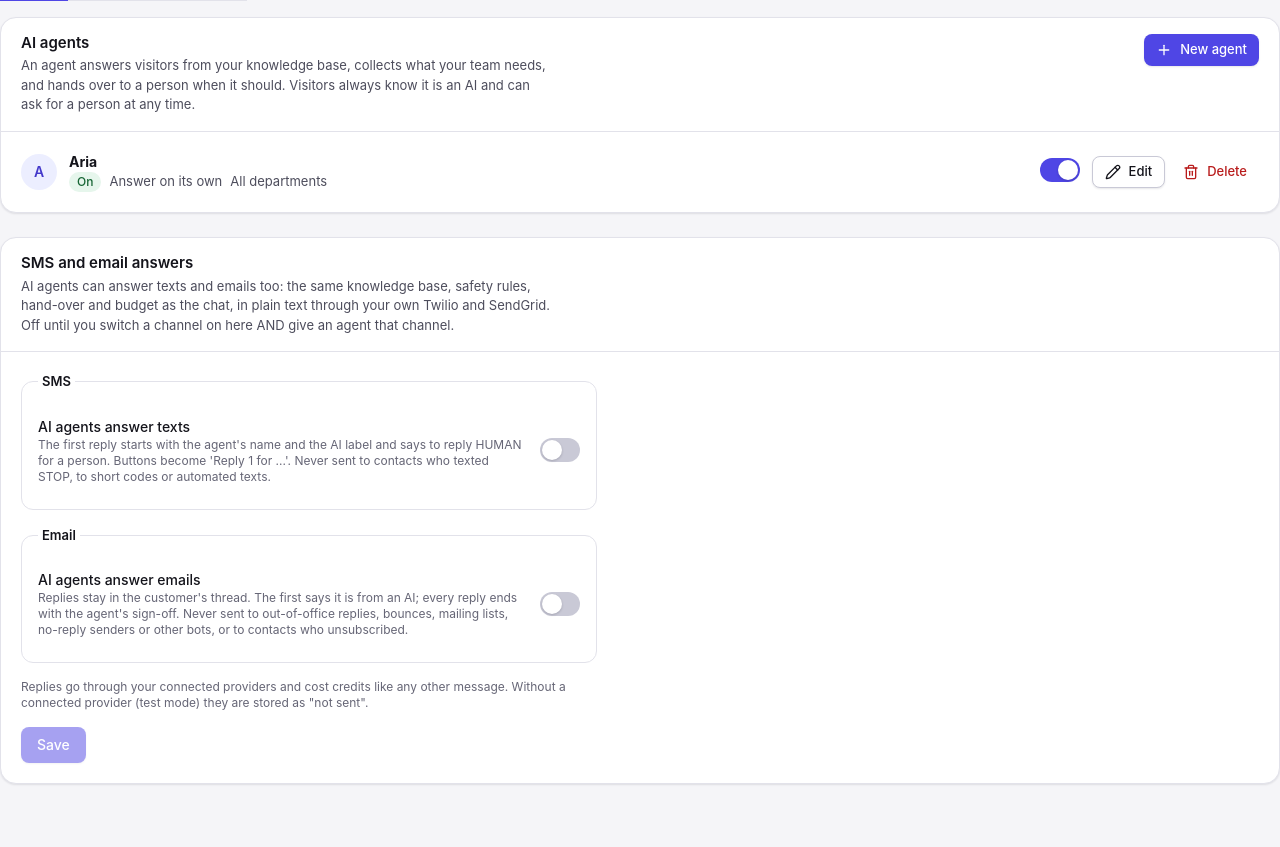
Test: AiAgentsSettings › tries an agent without saving anything and shows what it would do
This screenshot has width=1280, height=847.
Click the button named "Edit Aria".
click(1128, 172)  # box x1=1092 y1=156 x2=1165 y2=188
(page scrolled)
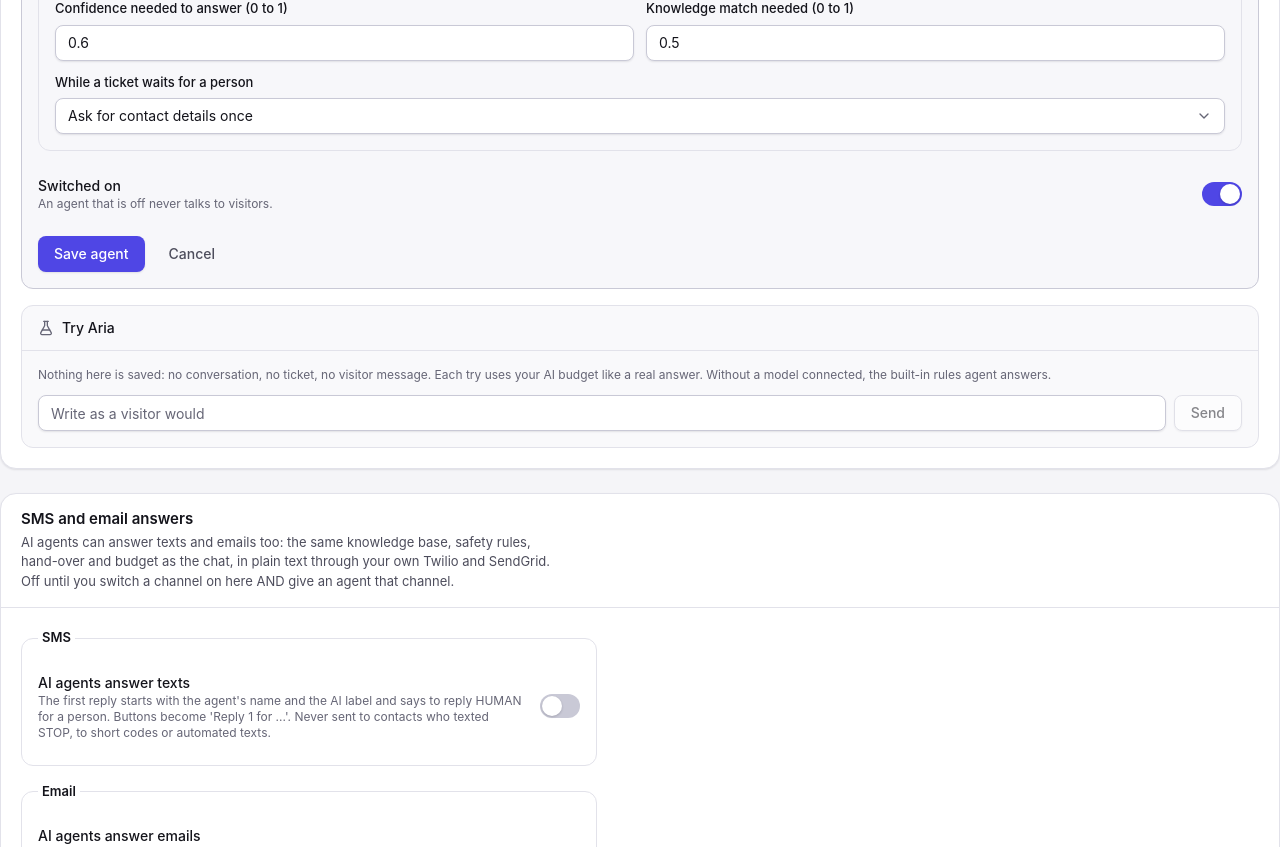
Type "How do I reset my password?" into the field named "Test message".
click(602, 413); type("How do I reset my password?")  # box x1=38 y1=395 x2=1166 y2=431
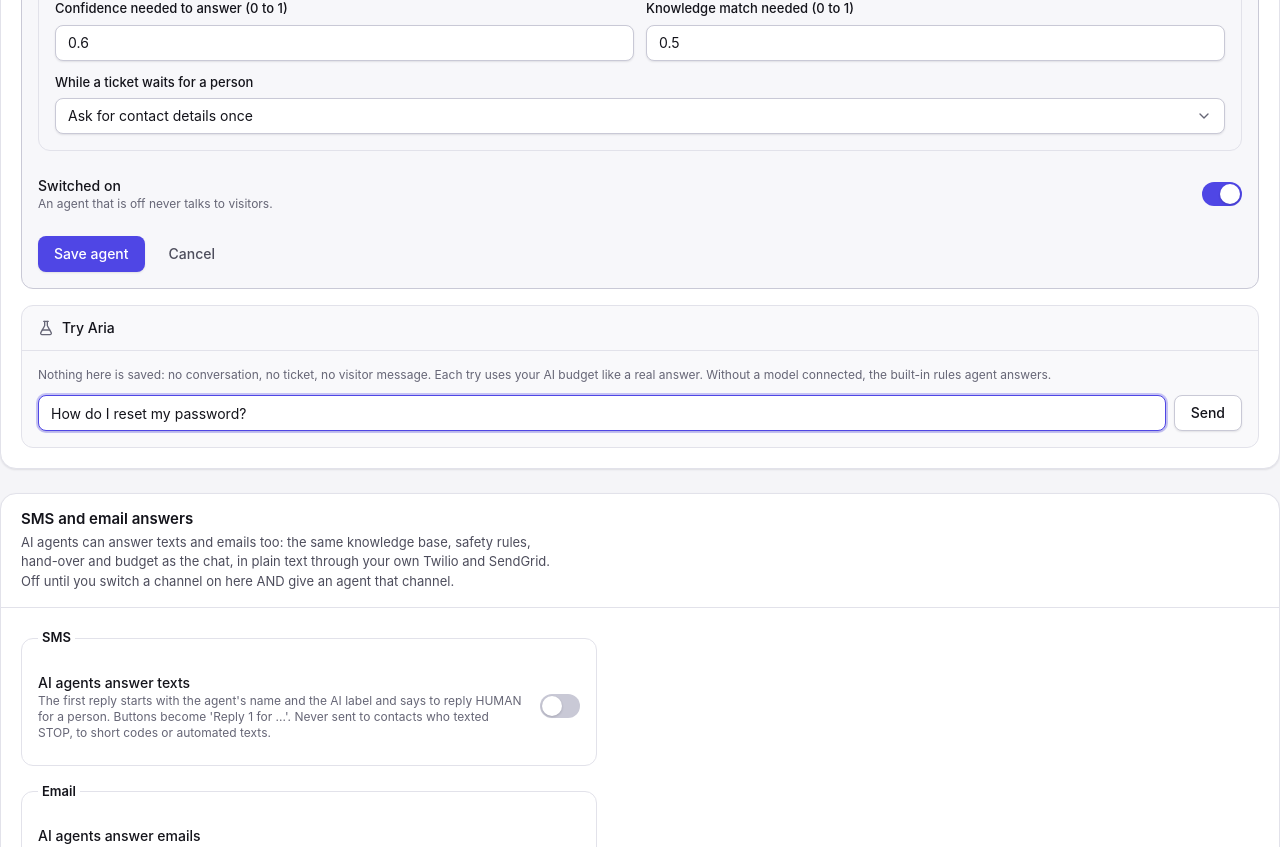
Click the button "Send".
click(1208, 413)  # box x1=1174 y1=395 x2=1242 y2=431
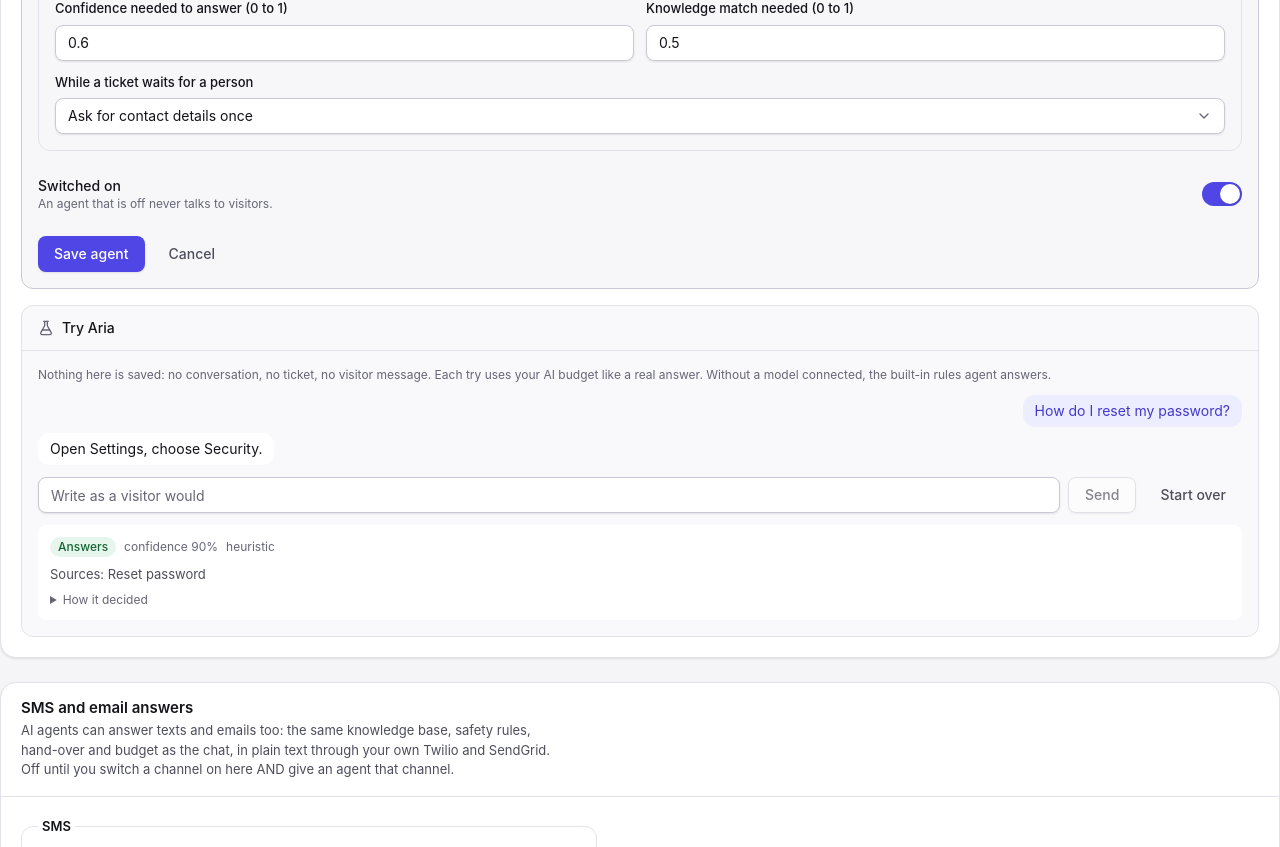
Result: the text "Answers" is shown at x1=50 y1=537 x2=116 y2=557
Result: the text "Sources: Reset password" is shown at x1=50 y1=566 x2=206 y2=582
Result: the list named "Test conversation" shows "Open Settings, choose Security." at x1=50 y1=440 x2=262 y2=457
